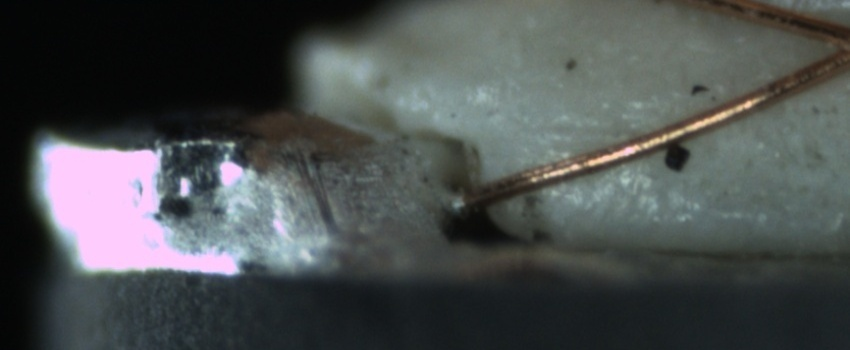DL: (526, 102, 670, 162)
